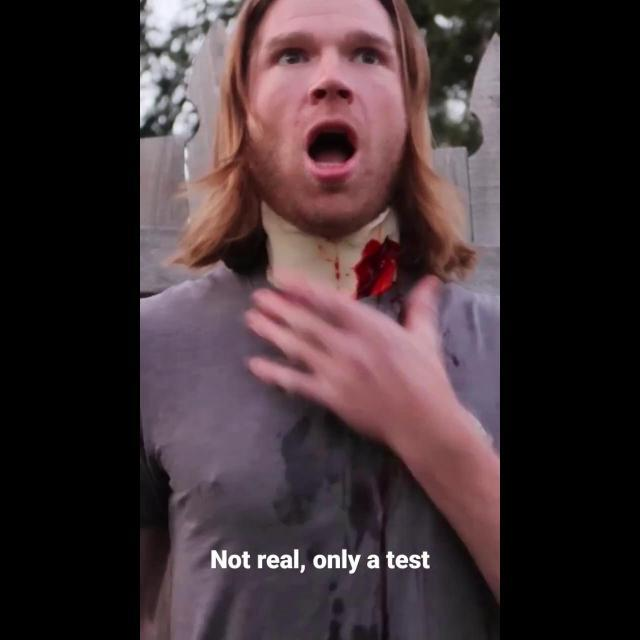blood: (362, 268, 421, 325), (354, 237, 400, 299), (329, 242, 359, 295)
